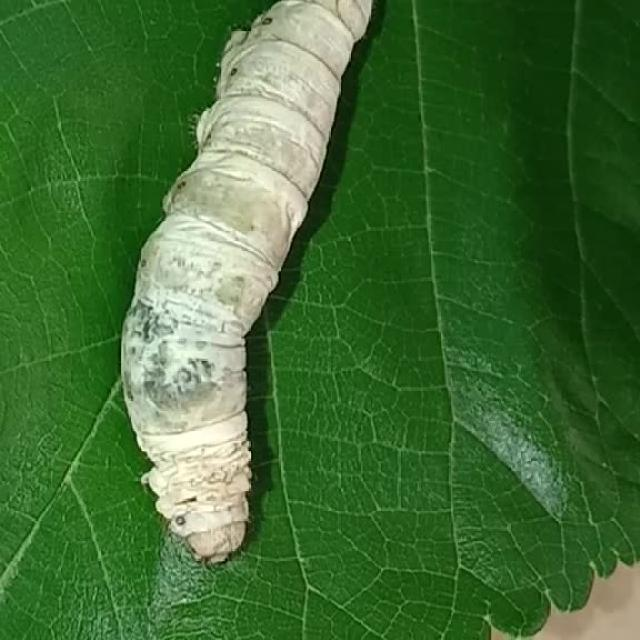Grasserie: (96, 0, 411, 564)
